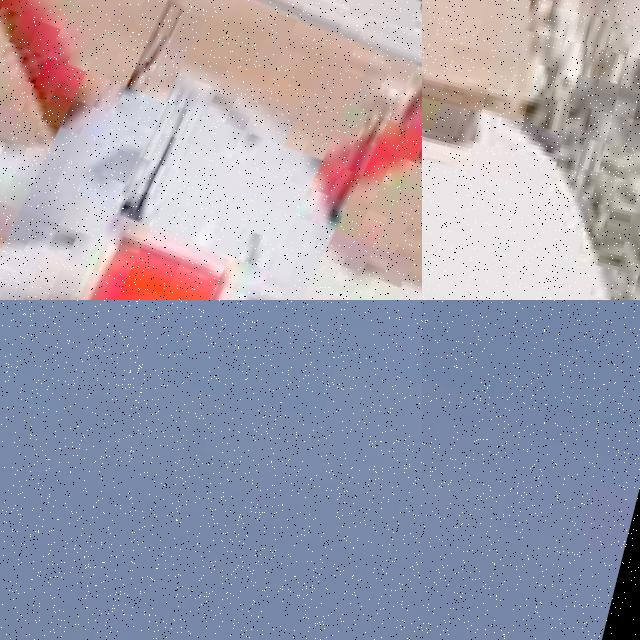drone: (0, 0, 422, 300)
